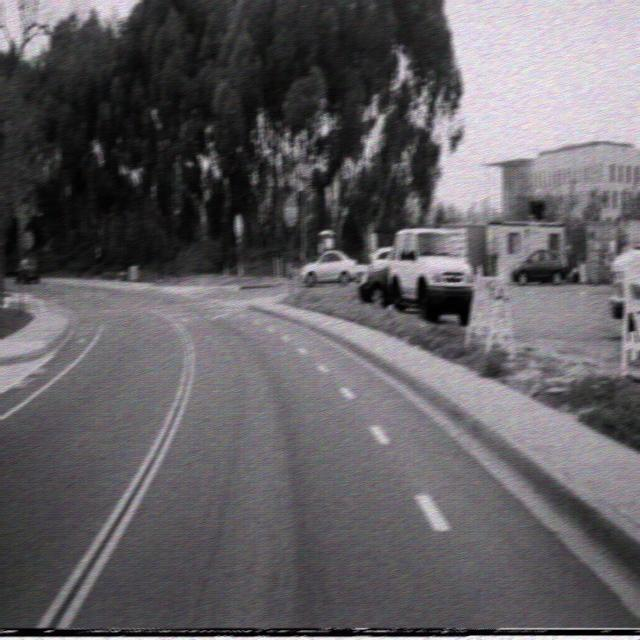stop_sign: (282, 195, 299, 228), (234, 212, 242, 238)
